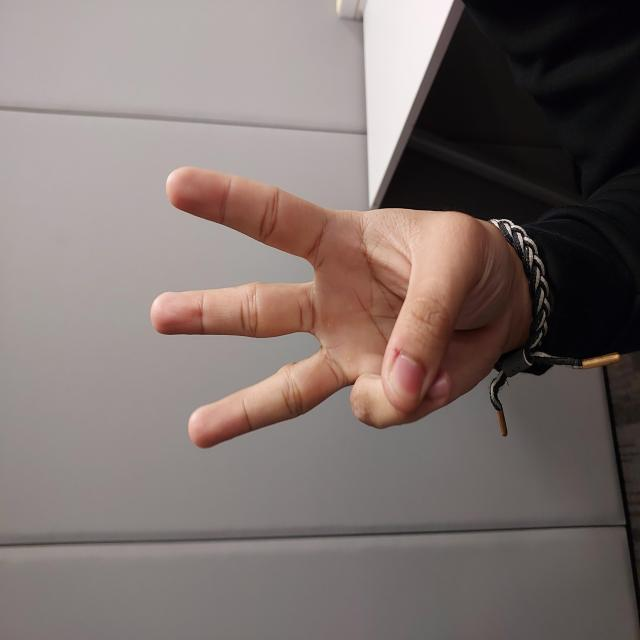W: (188, 148, 476, 512)
